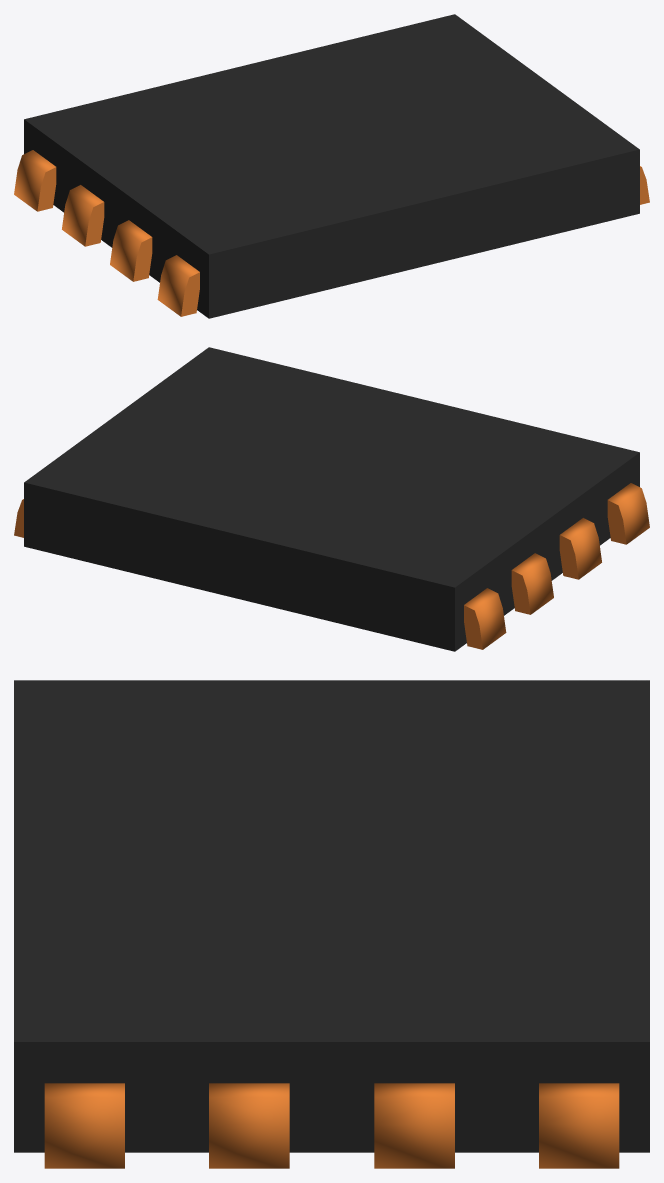
Rendered from Chip_1.fbx.
The picture shows the model from 3 angles, top to bottom: view 1: azimuth 30°, elevation 25°; view 2: azimuth 150°, elevation 25°; view 3: azimuth 270°, elevation 25°; orthographic projection. The views are drawn at different scales.
Visible parts, largest first — view 1: Chip_1; view 2: Chip_1; view 3: Chip_1.
Part boxes in pixels (x1,y1,x2,y2): Chip_1: (14, 14, 649, 318); Chip_1: (14, 347, 649, 651); Chip_1: (14, 680, 649, 1168).
Size of the model in its own units: 218 by 28.46 by 149.
